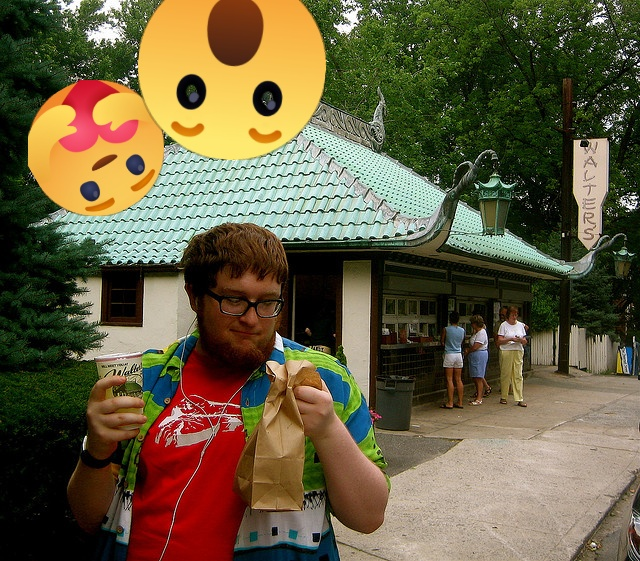care: (28, 80, 164, 216)
wow: (138, 0, 326, 160)
